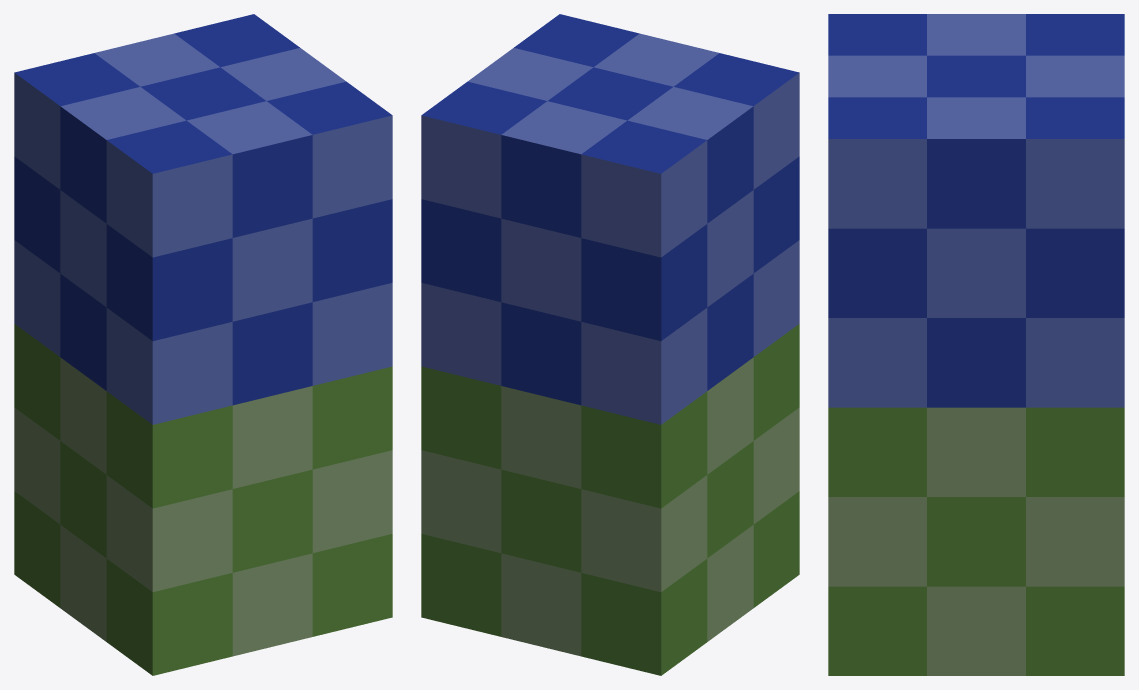
File: block_totem.glb
3 renders of one model, left to right at view 1: azimuth 30°, elevation 25°; view 2: azimuth 150°, elevation 25°; view 3: azimuth 270°, elevation 25°, orthographic. The views are drawn at different scales.
Visible parts, largest first — view 1: block_totem; view 2: block_totem; view 3: block_totem.
Boxes of the visible parts, box(x1,y1,x2,y2) form: block_totem: box(14, 14, 392, 675); block_totem: box(421, 14, 799, 675); block_totem: box(828, 14, 1124, 675).
Size of the model in its own units: 2 by 4 by 2.
Materials: 2 (2 with a texture image).
